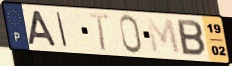0: (118, 13, 144, 55)
A: (26, 9, 59, 48)
B: (176, 18, 207, 58)
I: (55, 11, 69, 49)
M: (144, 16, 183, 56)
T: (88, 11, 111, 52)
